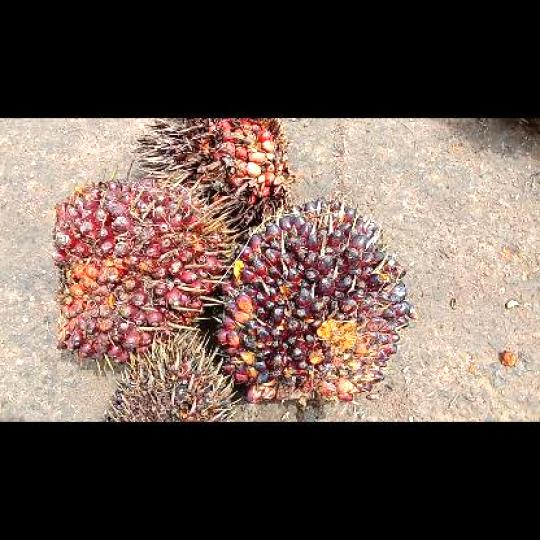kurang masak: (212, 195, 414, 407)
masak: (50, 178, 230, 366)
terlalu masak: (131, 118, 295, 227)
